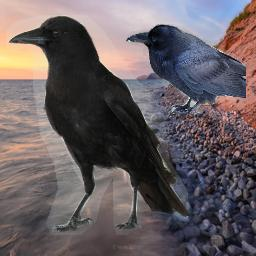Crow: (6, 15, 190, 235), (126, 24, 246, 114)
